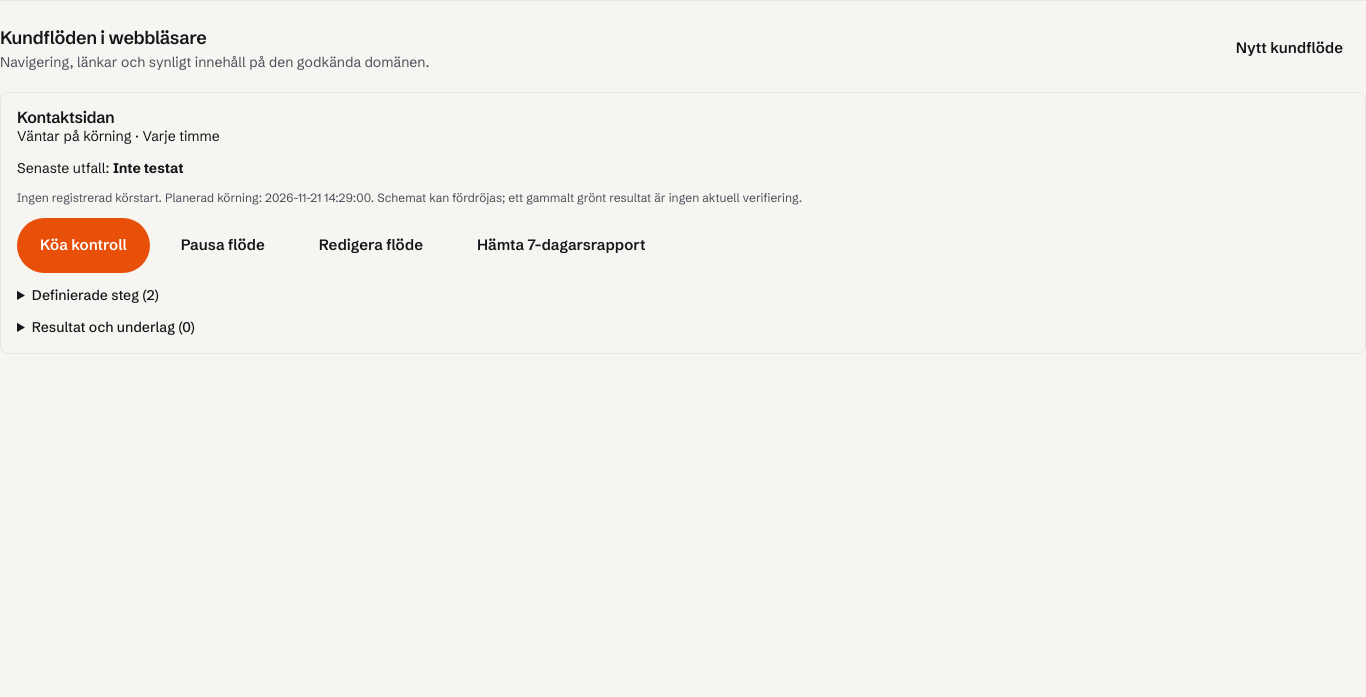
it: Aurora Watch flow administration › prevents a navigation-only flow from being saved as a meaningful check
Click the button "Nytt kundflöde". click: (1289, 48)
box: [1213,21,1365,76]
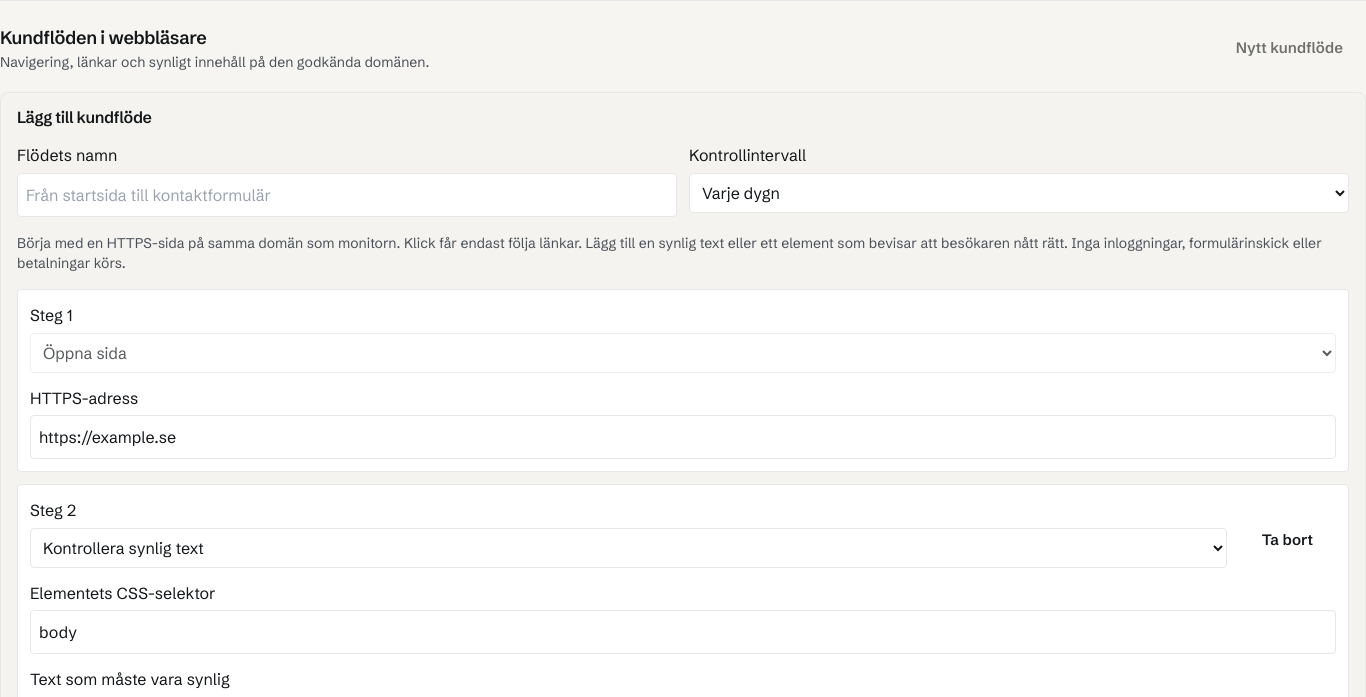
Click the button with aria-label "Ta bort steg 2". click: (1287, 540)
box: [1239,513,1336,568]
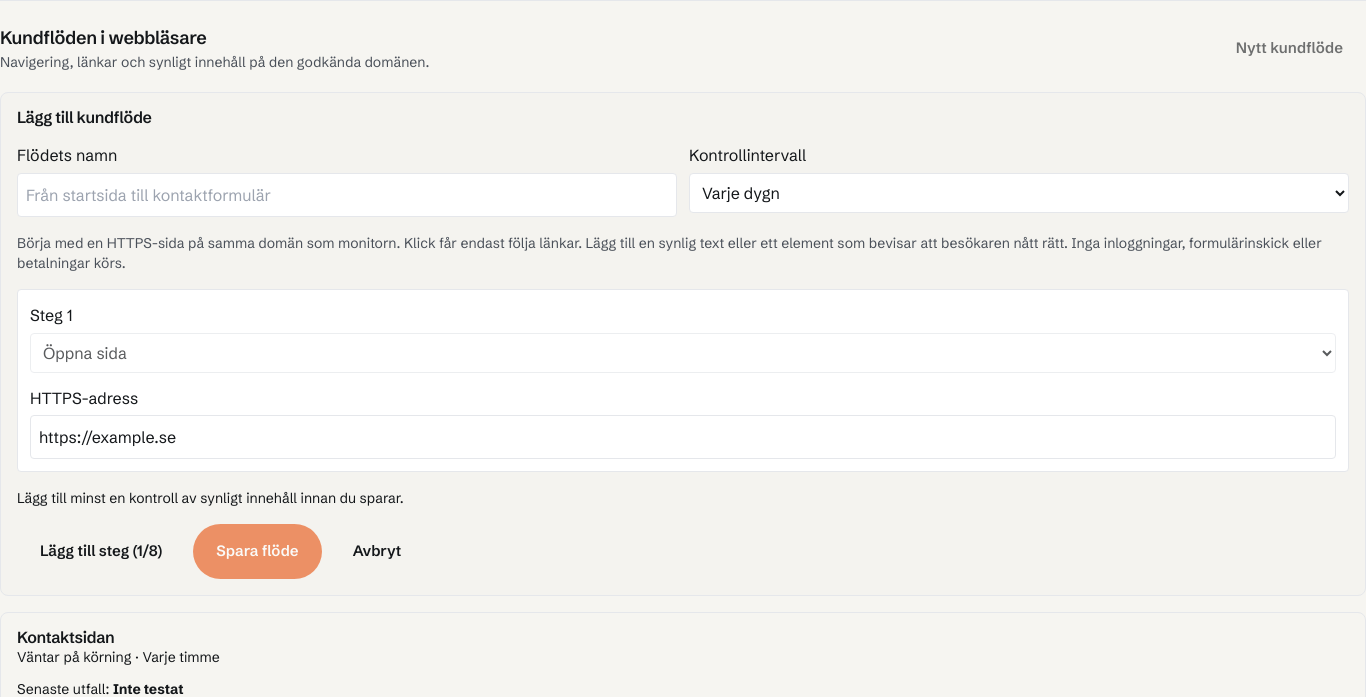
Result: the button "Spara flöde" is disabled at [193,524,322,579]
Result: the text "Lägg till minst en kontroll av synligt innehåll innan du sparar." is shown at [17,489,404,507]
